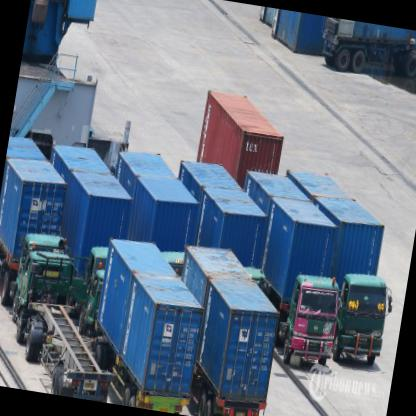truck: (282, 274, 345, 377), (332, 272, 394, 371)
